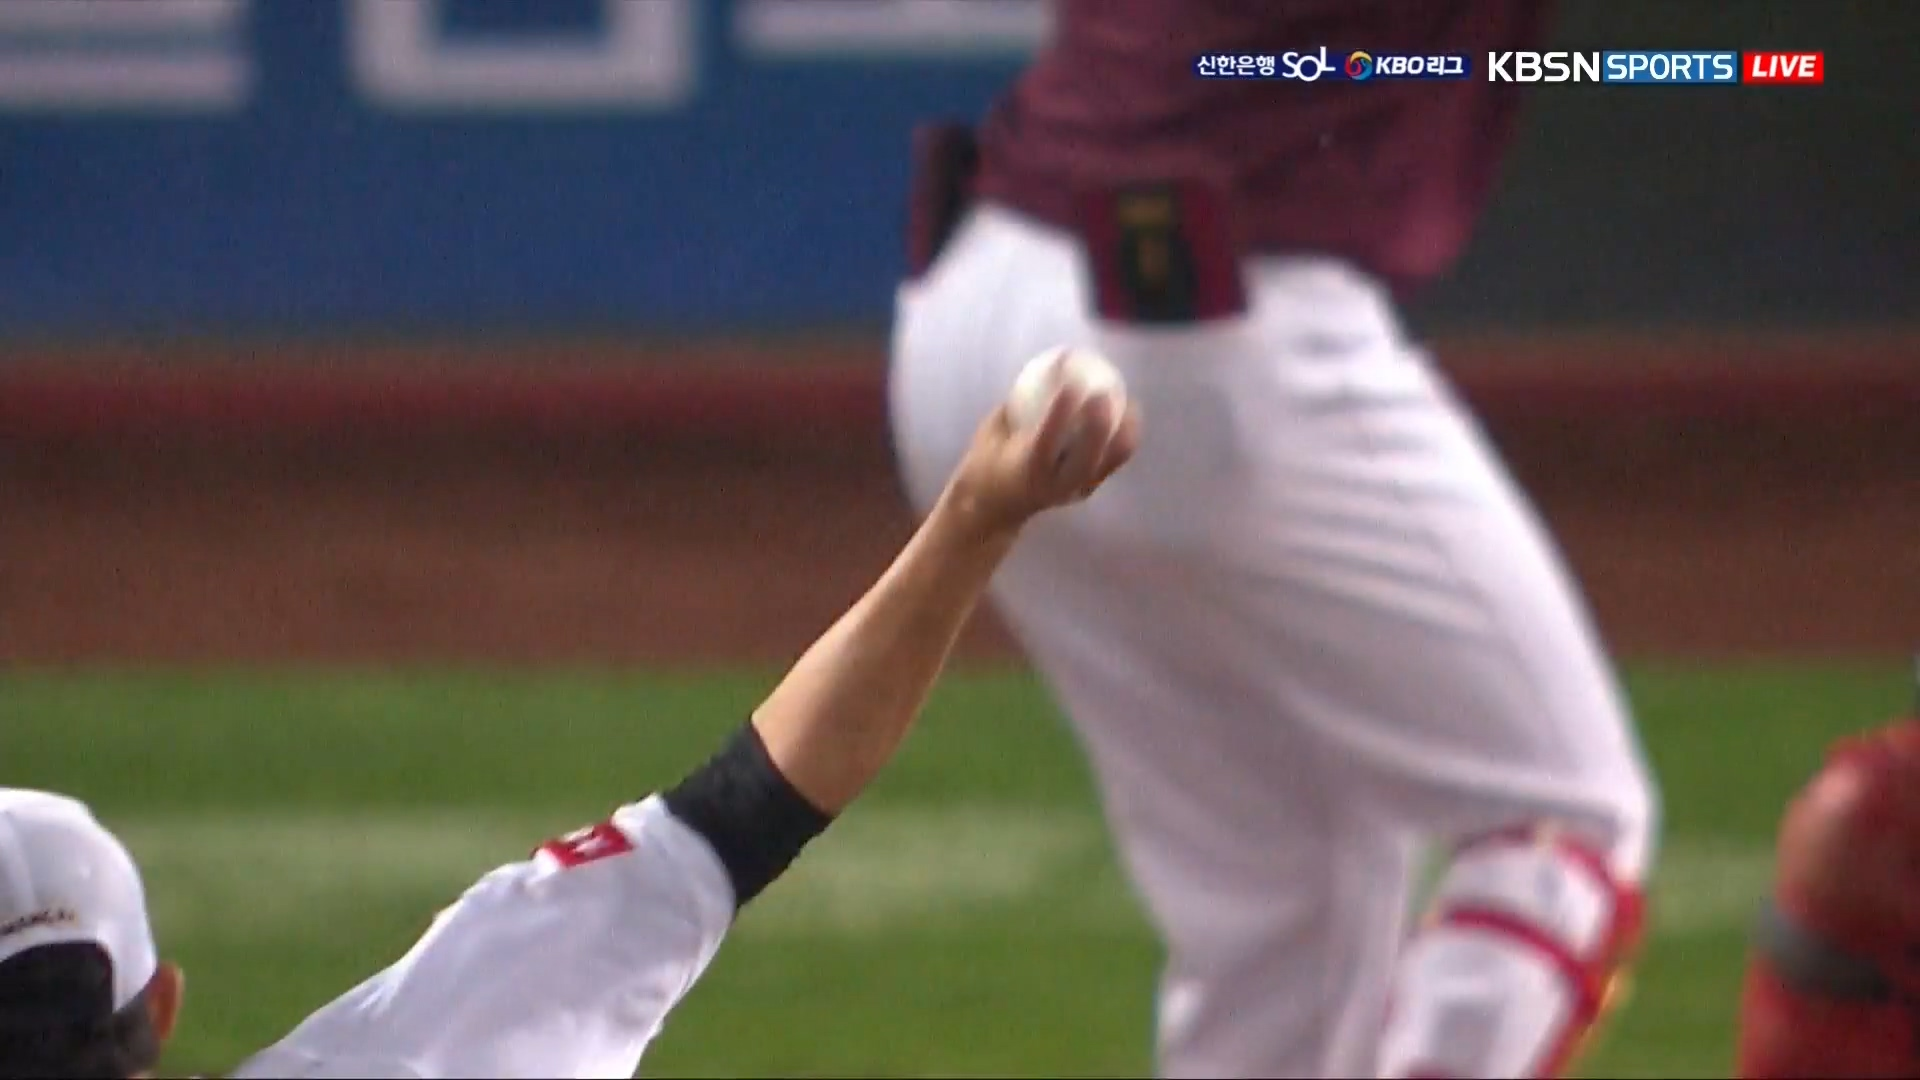zoomin_hand: (707, 303, 1156, 853)
